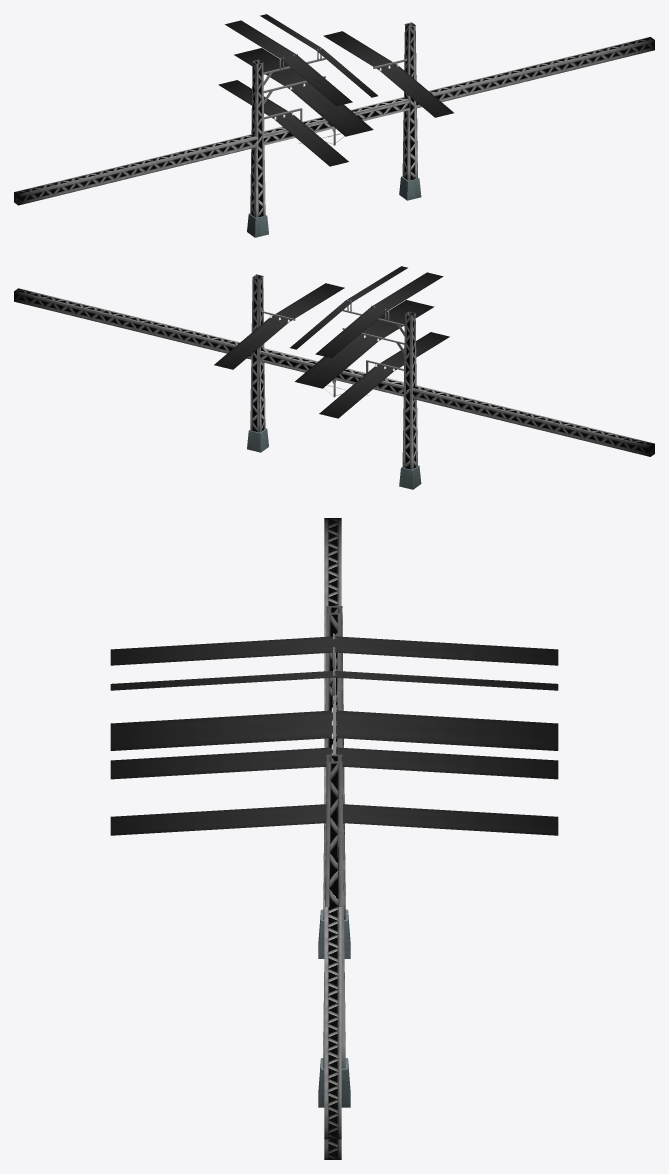
The model's file is KASENCHU_3HUKU.glb.
3 views of the same model, one above another, from view 1: azimuth 30°, elevation 25°; view 2: azimuth 150°, elevation 25°; view 3: azimuth 270°, elevation 25° (orthographic). The views are drawn at different scales.
Visible parts, largest first — view 1: body; view 2: body; view 3: body.
Boxes of the visible parts, bbox=[...] form: body: bbox=[14, 14, 654, 237]; body: bbox=[14, 266, 654, 489]; body: bbox=[110, 518, 558, 1159].
Size of the model in its own units: 130 by 33.44 by 39.61.
Materials: 5 (5 with a texture image).
